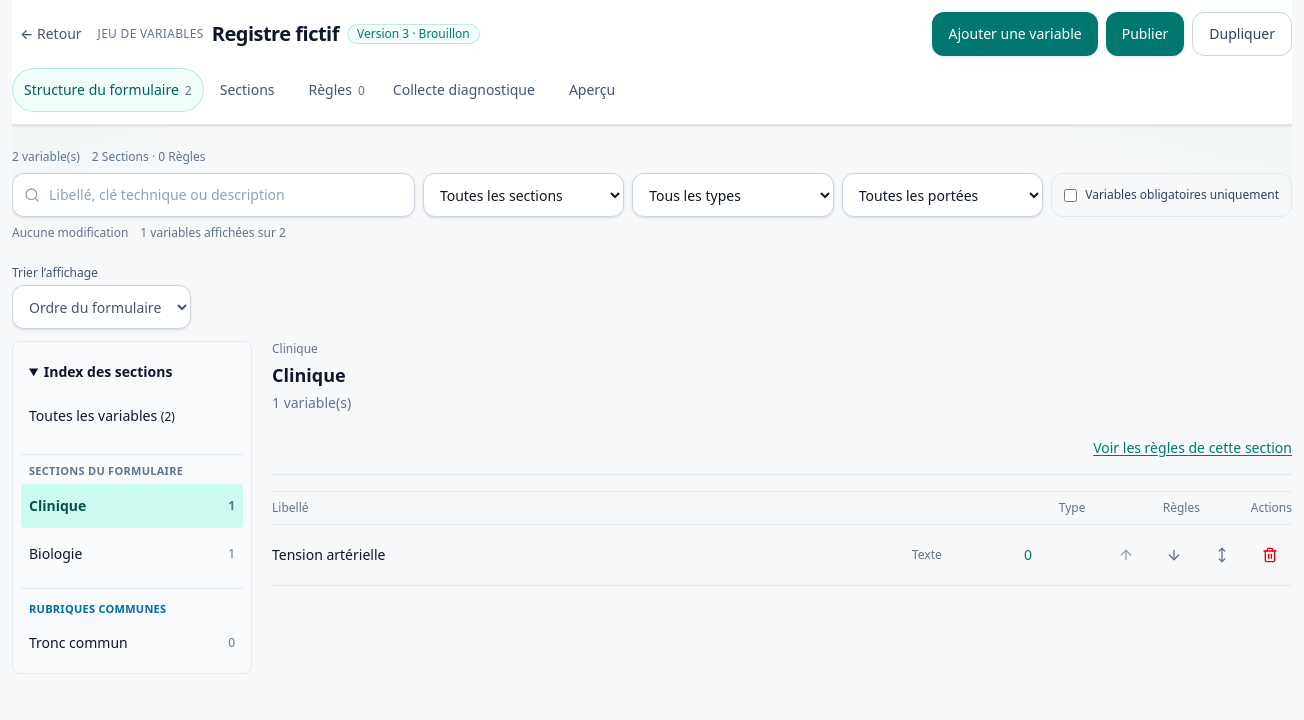
Scenario: TemplateVersionEditor — relecture perdue apres un deplacement › signale l echec au lieu d annoncer l enregistrement
The width and height of the screenshot is (1304, 720).
Click the button named "Descendre · Tension artérielle": [1174, 555] box [1152,533,1196,577]
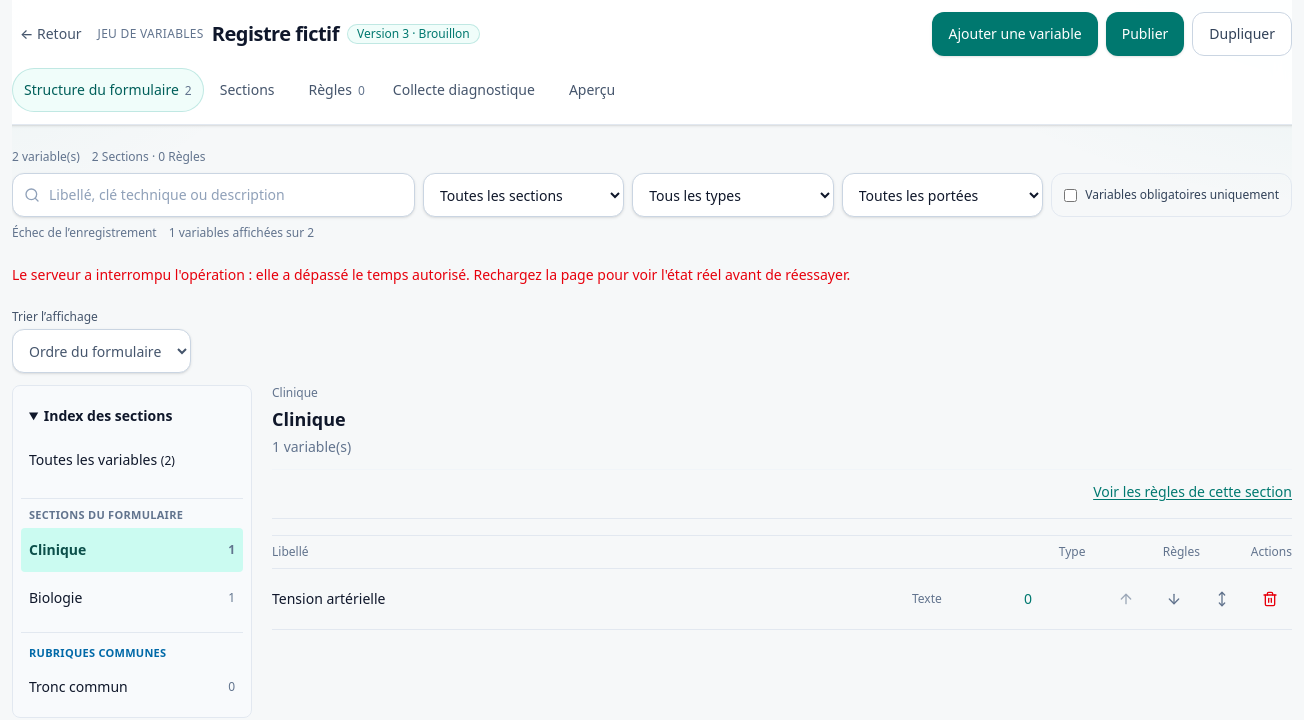
Expected: the text "Rechargez la page" is shown, [12,265,850,284]
